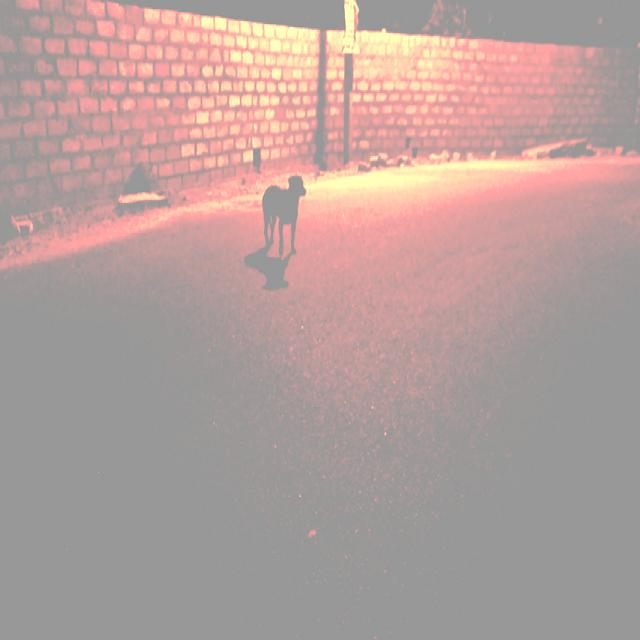Dog: (248, 162, 338, 270)
